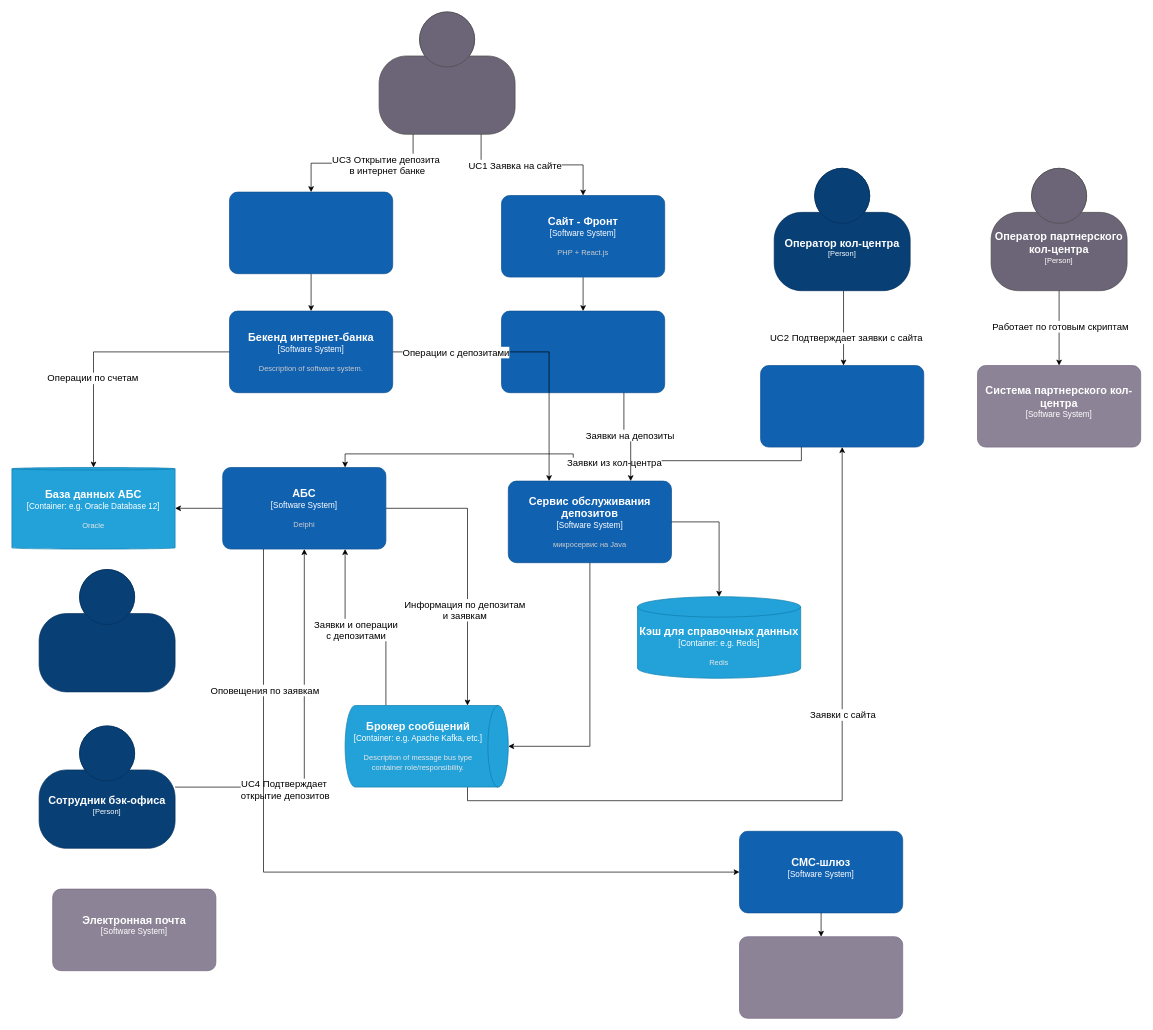
Some shapes in this 1153 by 1030 pixel diagram are drawn without their labels. Each missing label, with the centre of its shape:
Бекенд сайта [Software System] Description of software system.: (x=583, y=351)
Клиент банка [Person] Description of external person.: (x=446, y=72)
Клиент интернет-банка [Software System] ASP.NET MVC 4.5: (x=311, y=232)
Система кол-центра [Software System] React.js + Java + PostgreSQL: (x=842, y=406)
Сотрудник отделения [Person]: (x=106, y=630)
Телеком-оператор [Software System]: (x=821, y=977)
